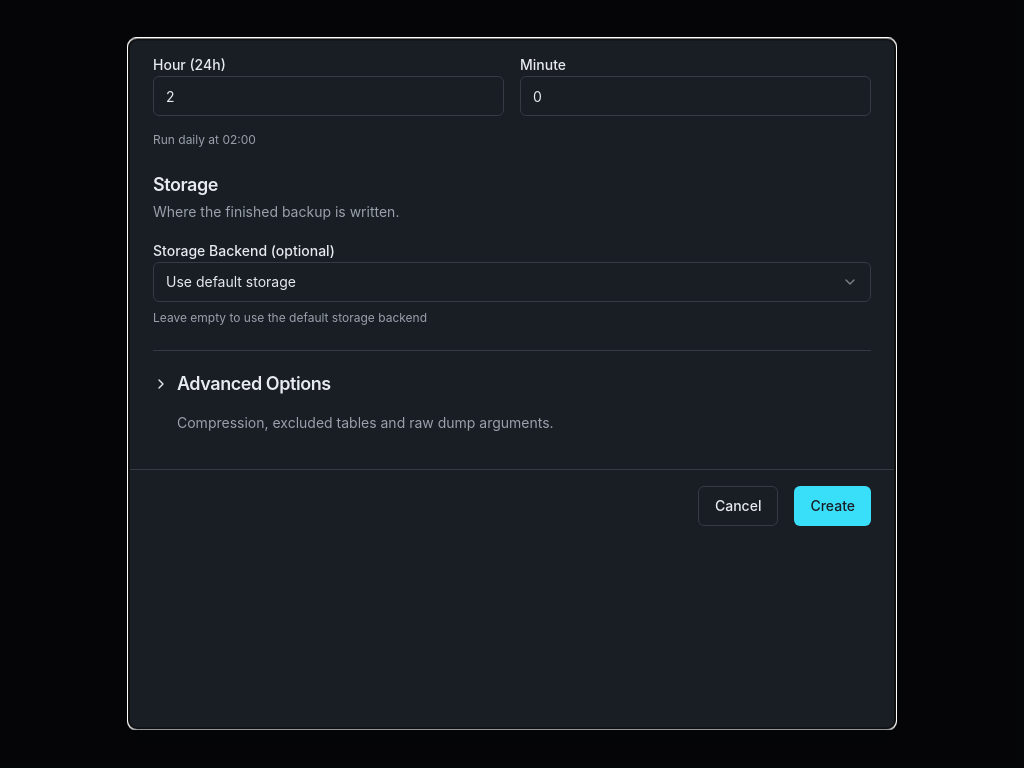
Test: TargetForm › opens a clean form when create follows an edit
The image size is (1024, 768).
(page scrolled)
Expected: the dropdown named "storage backend" reads "Use default storage", [153,262,871,302]
Click the button "Advanced Options" at x=254, y=384, box [153,371,871,397]
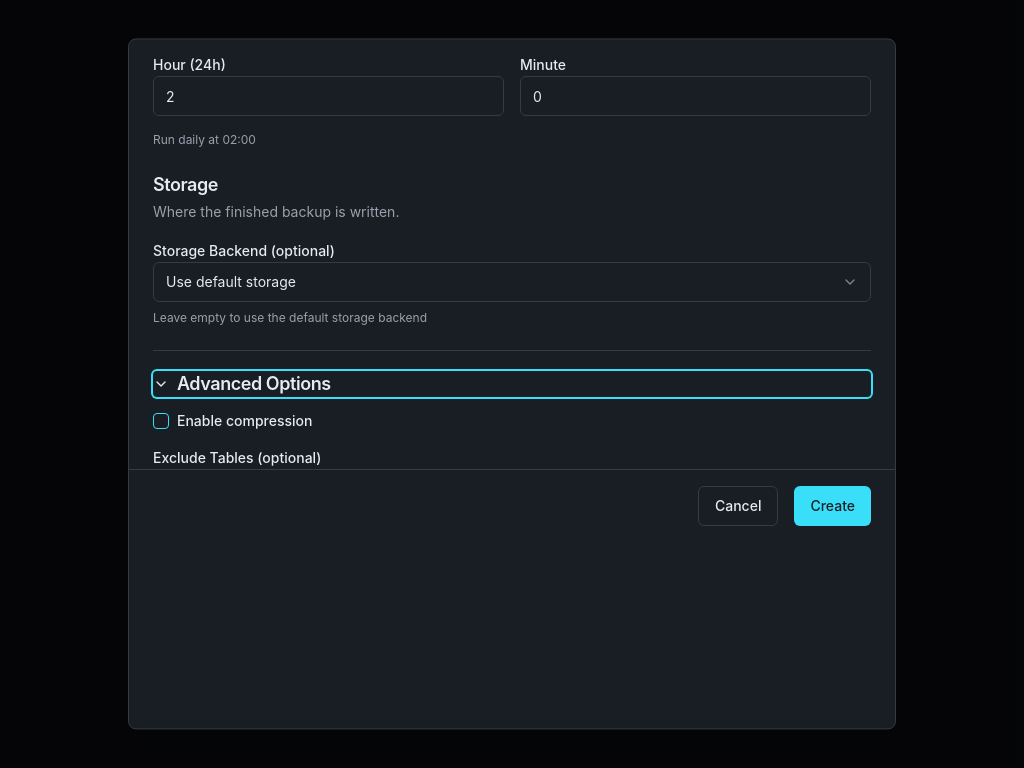
Expected: the checkbox named "enable compression" is not checked, [153,413,169,429]
